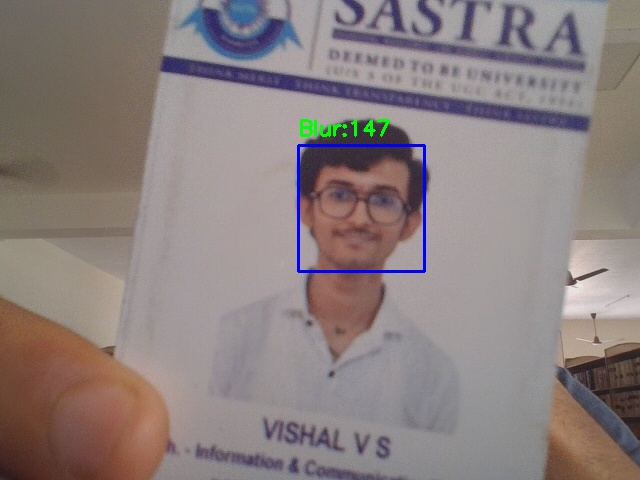fake: (298, 145, 424, 271)
